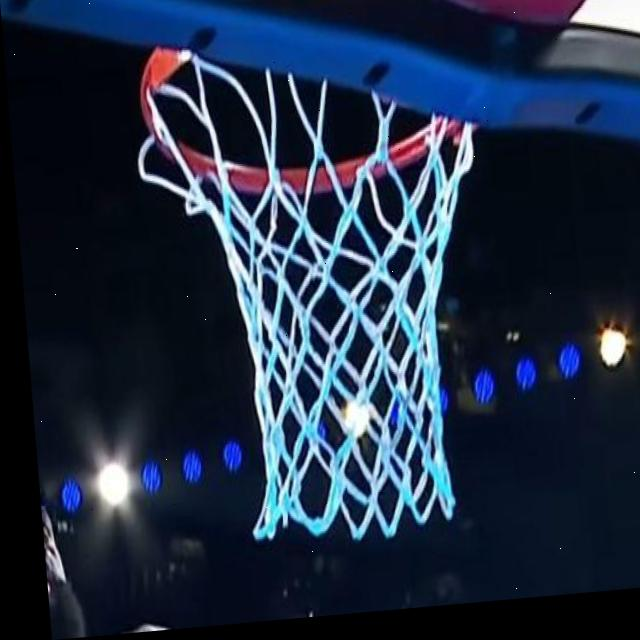hoop: (111, 56, 515, 551)
